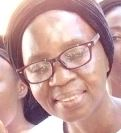without_facemask: (33, 80, 111, 119)
